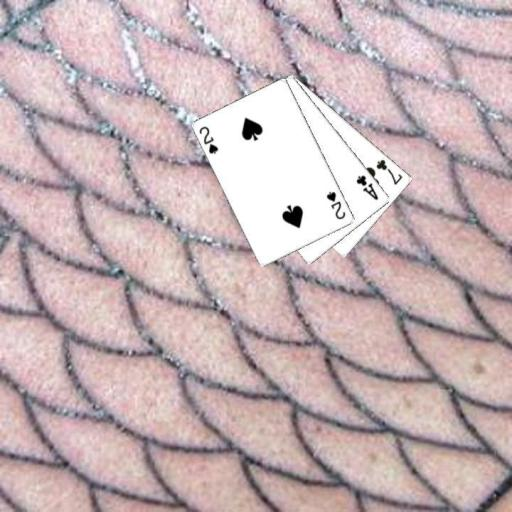2S: (196, 123, 220, 156), (324, 189, 347, 221)
7C: (373, 156, 405, 186)
AC: (353, 172, 380, 202)
